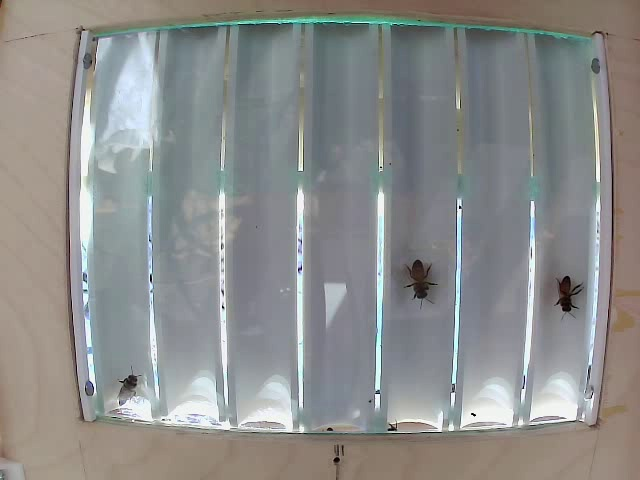bee: (393, 258, 445, 309), (537, 270, 591, 307)
